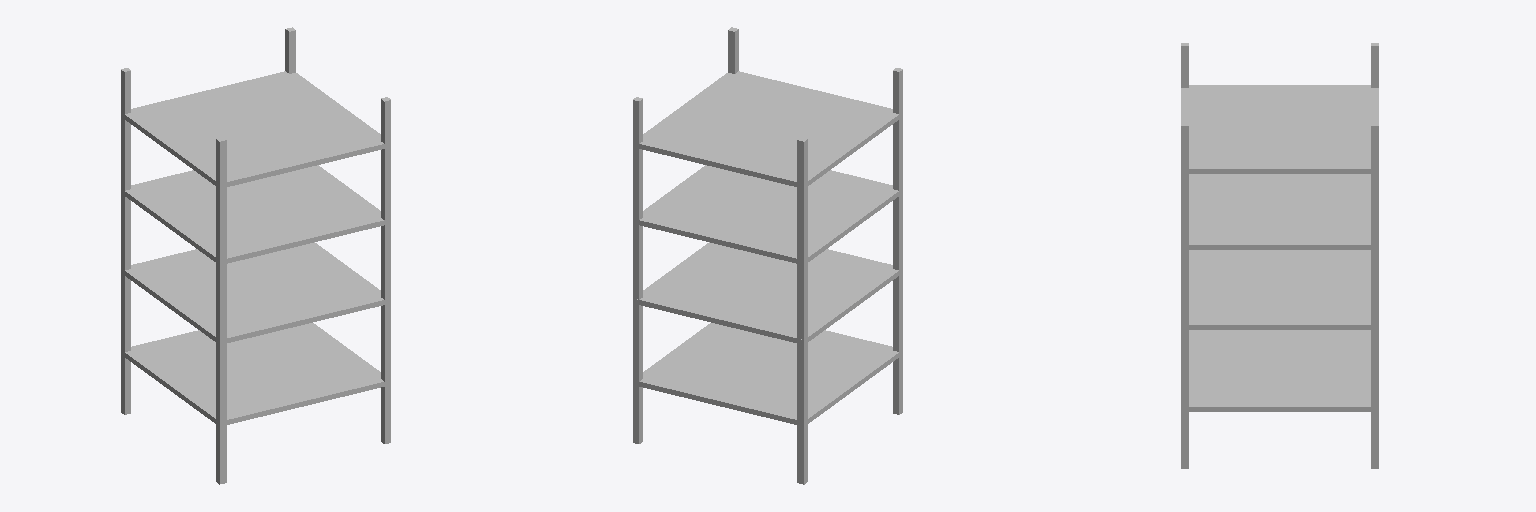
The model's file is container_empty.obj.
3 renders of one model, left to right at view 1: azimuth 30°, elevation 25°; view 2: azimuth 150°, elevation 25°; view 3: azimuth 270°, elevation 25°, orthographic.
Visible parts, largest first — view 1: 立方体.8; view 2: 立方体.8; view 3: 立方体.8.
Boxes of the visible parts, <box> form: 立方体.8: <box>121,27,390,484</box>; 立方体.8: <box>633,27,902,484</box>; 立方体.8: <box>1181,43,1378,468</box>.
Size of the model in its own units: 58.33 by 111 by 58.33.